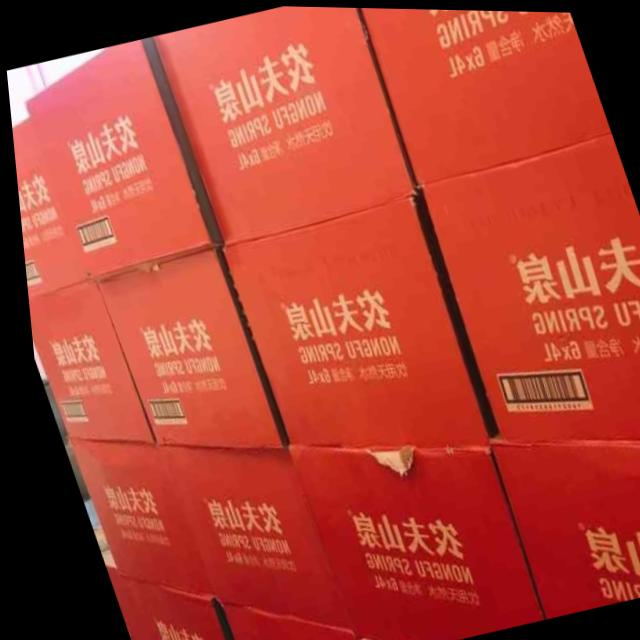box: (417, 130, 640, 440), (216, 194, 482, 446), (151, 5, 413, 246), (278, 444, 531, 640), (22, 37, 219, 278), (360, 6, 609, 183), (146, 442, 346, 633), (90, 247, 274, 446), (479, 436, 640, 617), (60, 440, 202, 595), (23, 281, 147, 442), (10, 117, 84, 298), (93, 554, 211, 640), (209, 601, 342, 640)
